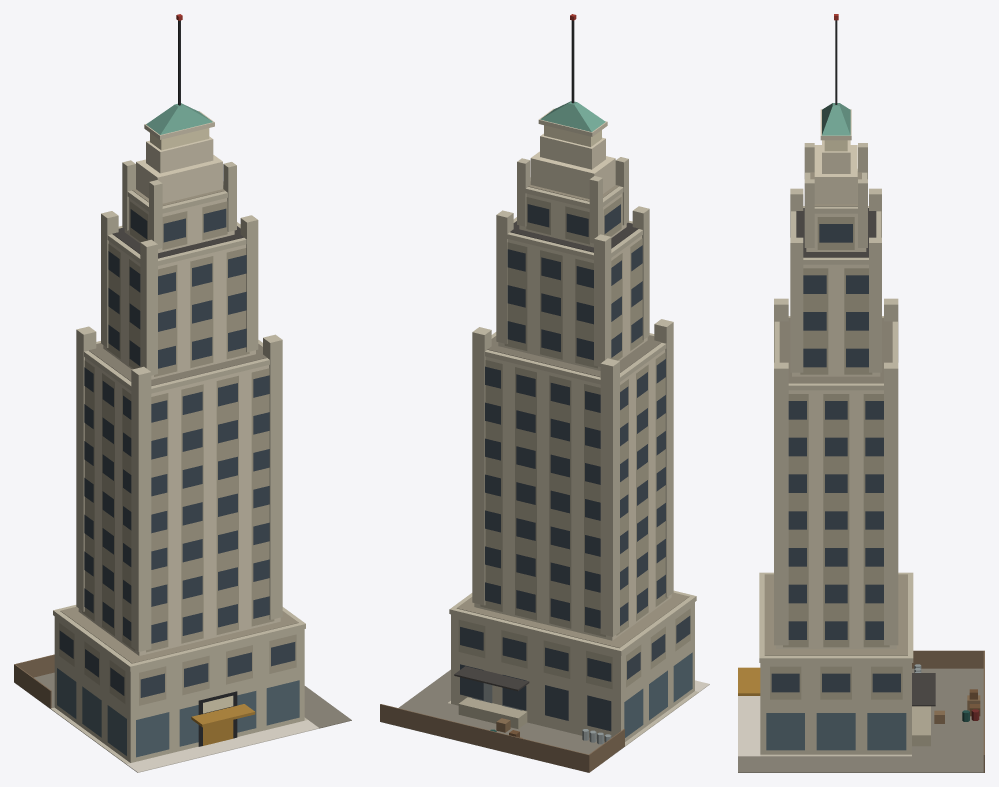
The model's file is glasstower_m.glb.
3 views of the same model, side by side, from view 1: azimuth 30°, elevation 25°; view 2: azimuth 150°, elevation 25°; view 3: azimuth 270°, elevation 25° (orthographic). The views are drawn at different scales.
Parts seen in each view (by area): view 1: glasstower_m; view 2: glasstower_m; view 3: glasstower_m.
Boxes of the visible parts, bbox=[...] form: glasstower_m: bbox=[14, 14, 351, 772]; glasstower_m: bbox=[380, 14, 709, 772]; glasstower_m: bbox=[738, 14, 984, 772].
Bounding box in the file's own units: 30 × 93.59 × 30.
